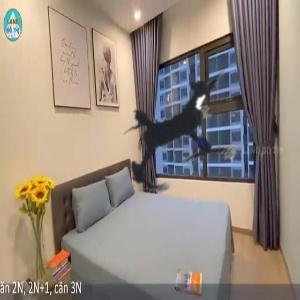drone: (75, 30, 289, 244)
